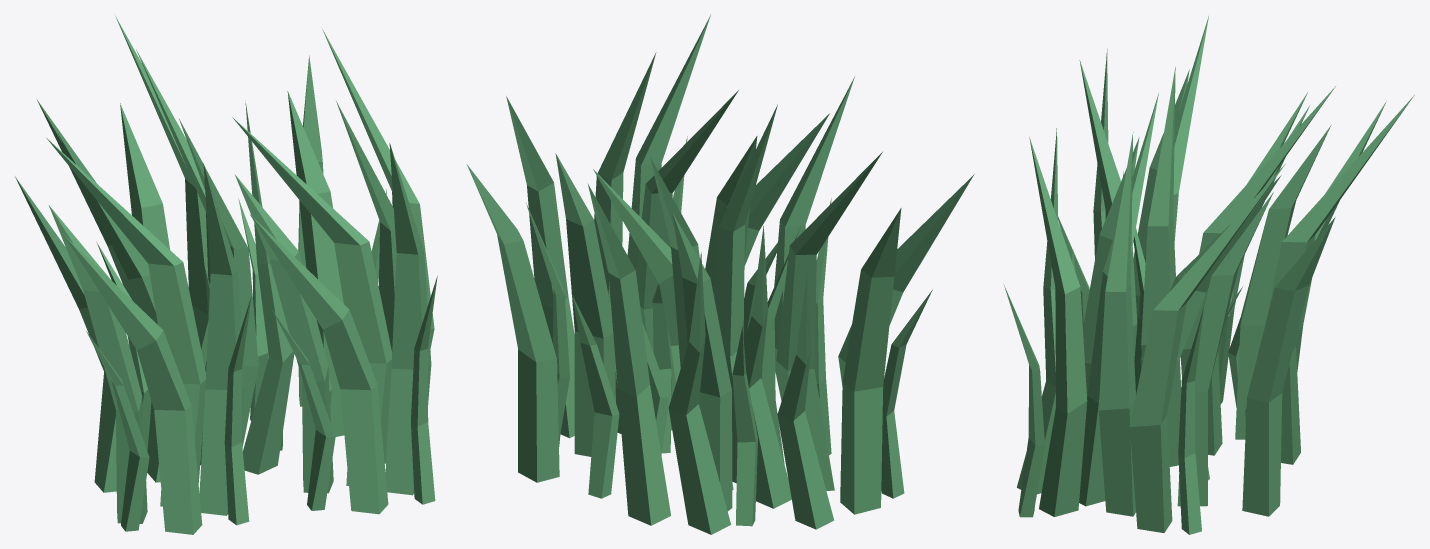
The model's file is 01_01Grass_Green.fbx.
3 views of the same model, side by side, from view 1: azimuth 30°, elevation 25°; view 2: azimuth 150°, elevation 25°; view 3: azimuth 270°, elevation 25° (orthographic). The views are drawn at different scales.
Parts seen in each view (by area): view 1: Icosphere.065; view 2: Icosphere.065; view 3: Icosphere.065.
Boxes of the visible parts, box(x1,y1,x2,y2) form: Icosphere.065: box(15, 16, 437, 534); Icosphere.065: box(466, 15, 974, 534); Icosphere.065: box(1004, 16, 1414, 534).
Size of the model in its own units: 56.37 by 52.36 by 52.93.
